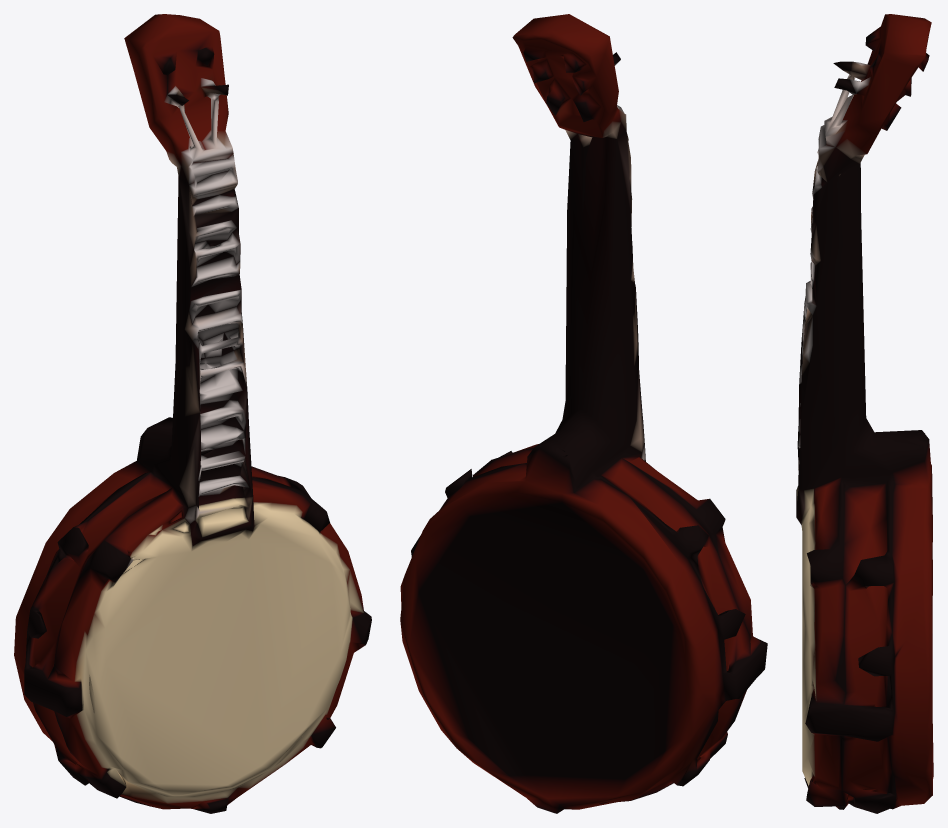
File: gen3d-banjo-lod0.glb
3 views of the same model, side by side, from view 1: azimuth 30°, elevation 25°; view 2: azimuth 150°, elevation 25°; view 3: azimuth 270°, elevation 25° (orthographic). The views are drawn at different scales.
Parts seen in each view (by area): view 1: part_0; view 2: part_0; view 3: part_0.
Boxes of the visible parts, x1,y1,x2,y2 form: part_0: (14, 14, 371, 813); part_0: (400, 14, 767, 813); part_0: (796, 14, 933, 813).
Bounding box in the file's own units: 0.4317 × 0.9996 × 0.1589.
